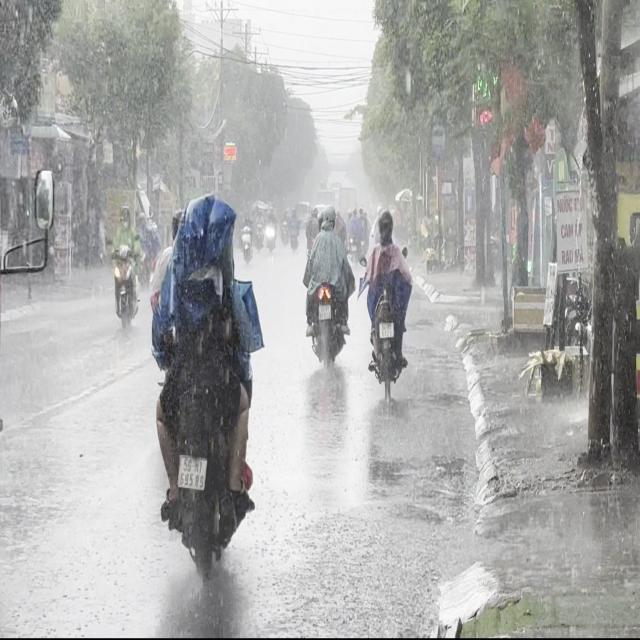helmet: (377, 208, 394, 242)
licenseplate: (148, 172, 264, 612), (363, 206, 413, 397)
nohelmet: (178, 455, 205, 488), (379, 321, 394, 337)
